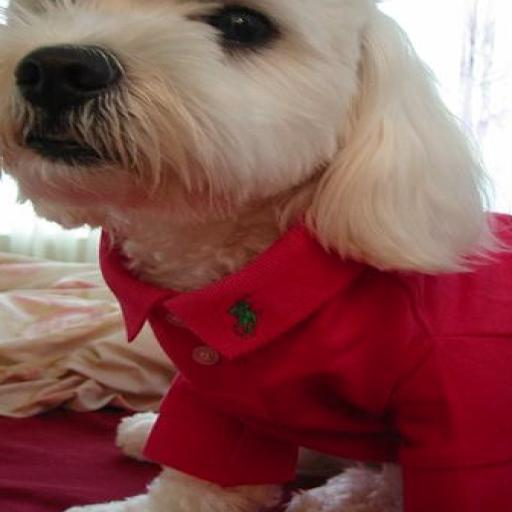dog_face: (0, 0, 471, 243)
